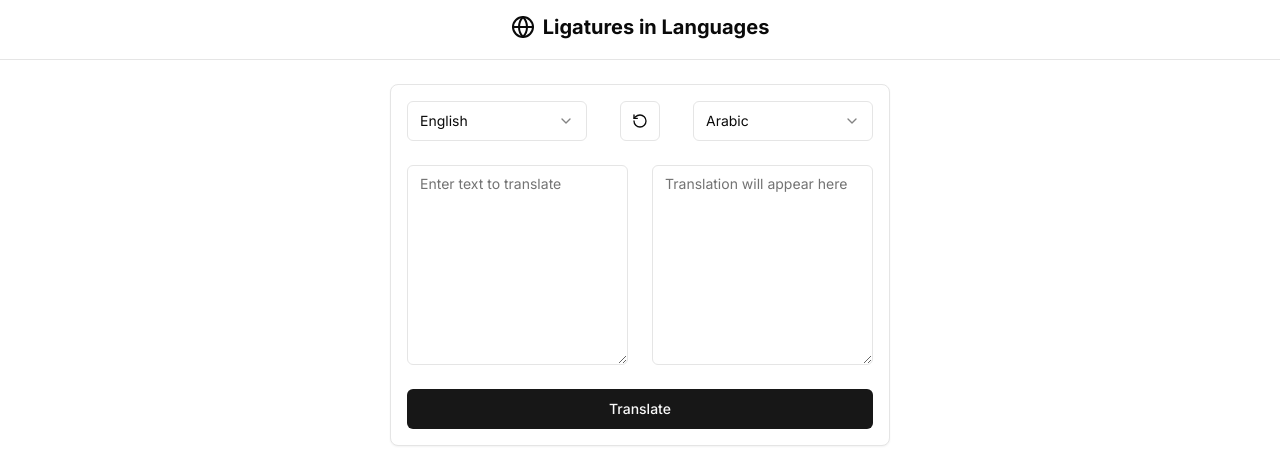
TranslationDashboard › translates text when the translate button is clicked
Type "Hello" into the text box with placeholder "Enter text to translate" at (518, 265), box [407,165,628,365]
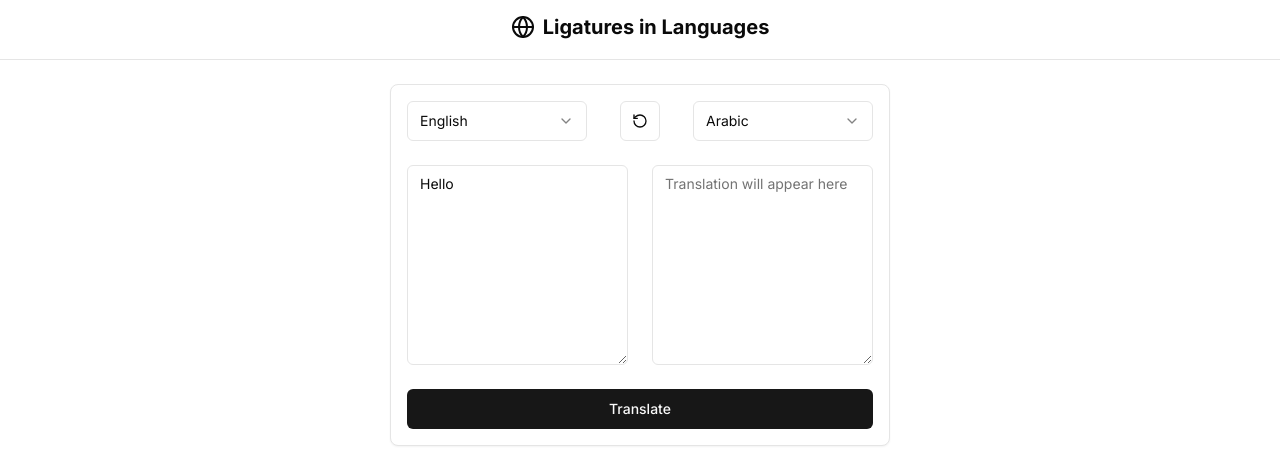
Click the button "Translate" at (640, 409), box [407,389,873,429]
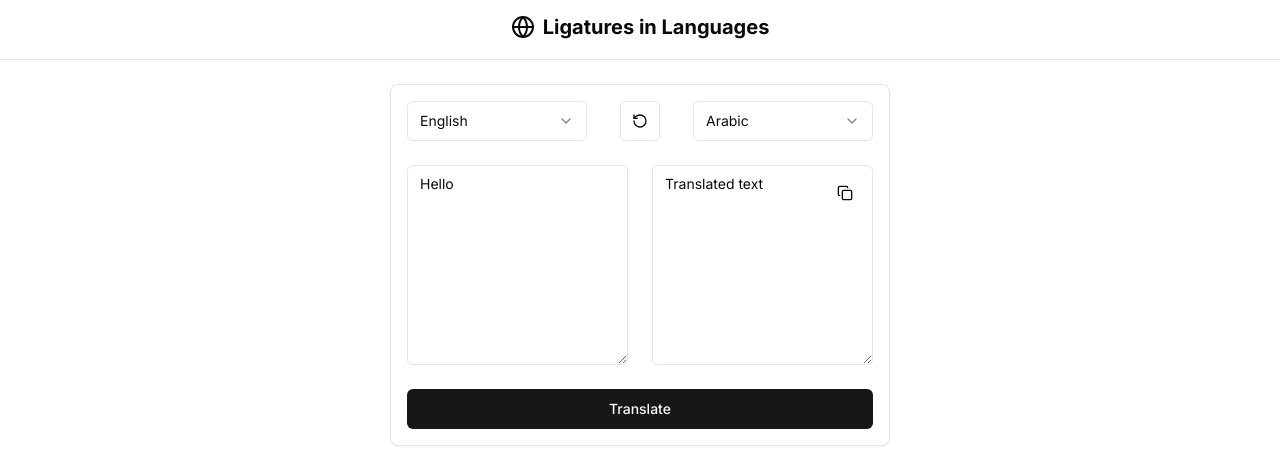
Expected: the 2nd text box showing "Translated text" is shown, [652,165,873,365]
